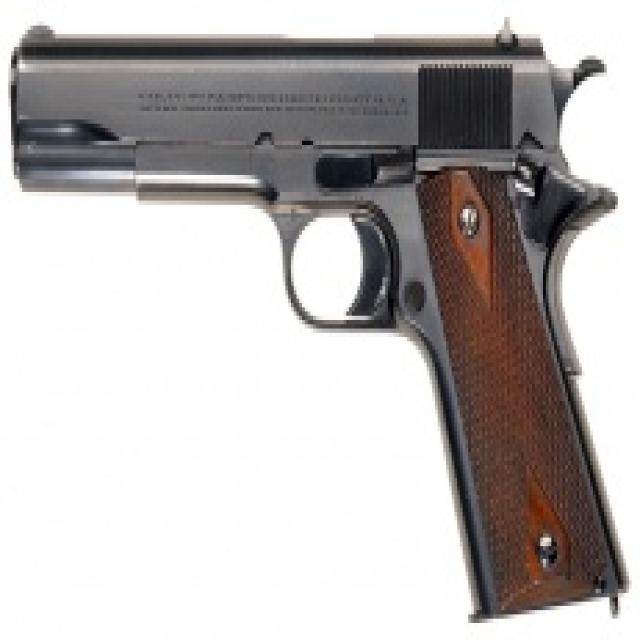pistol: (4, 5, 634, 638)
